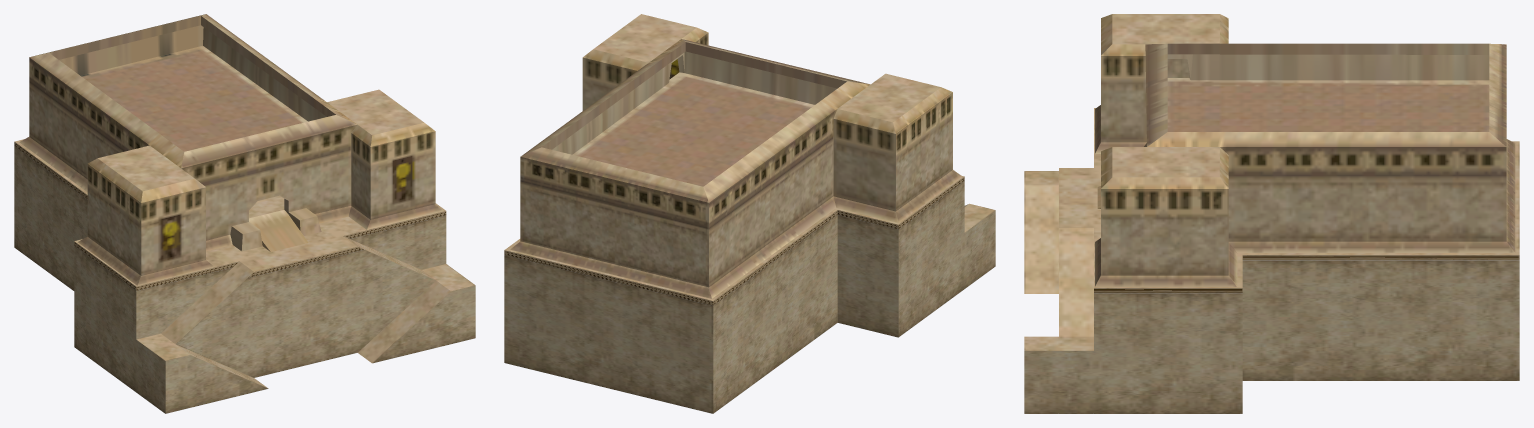
The model's file is ply_tato_assoc_hall_civ_s01_r0_exterior_mesh_exterior_l2.fbx.
3 renders of one model, left to right at view 1: azimuth 30°, elevation 25°; view 2: azimuth 150°, elevation 25°; view 3: azimuth 270°, elevation 25°, orthographic. The views are drawn at different scales.
Visible parts, largest first — view 1: mesh_node; view 2: mesh_node; view 3: mesh_node.
Part boxes in pixels (box(x1,y1,x2,y2)): mesh_node: box(14, 14, 475, 413); mesh_node: box(504, 14, 995, 413); mesh_node: box(1024, 14, 1519, 413).
Bounding box in the file's own units: 49 × 30 × 57.
2 materials, 2 textured.
